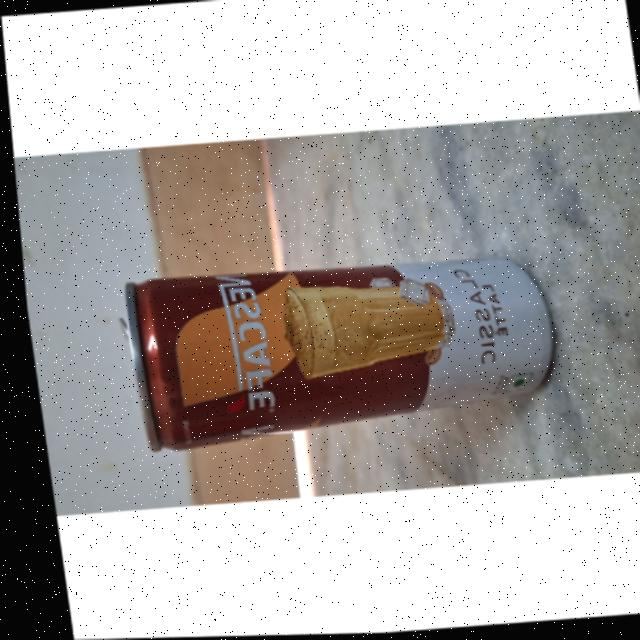Nescafe Classic Iced Latte: (114, 242, 550, 456)
